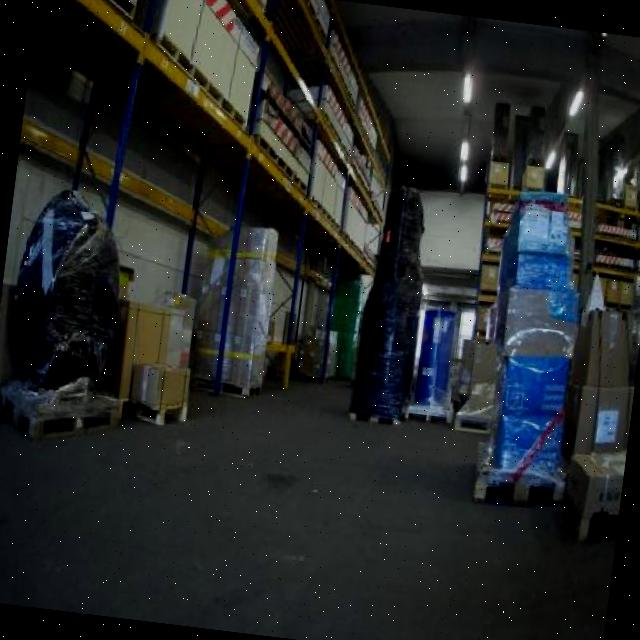pallet: (149, 19, 256, 136), (0, 377, 134, 445), (466, 472, 573, 505), (130, 394, 195, 429), (343, 409, 407, 432), (402, 404, 454, 428)
